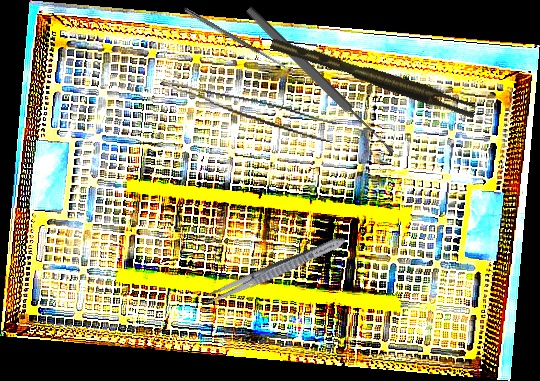Dressing Forceps: (198, 231, 350, 311)
Surgical Spoon: (244, 4, 397, 158), (182, 6, 294, 75)
Tissue Forceps: (269, 27, 479, 126), (155, 79, 339, 144)
